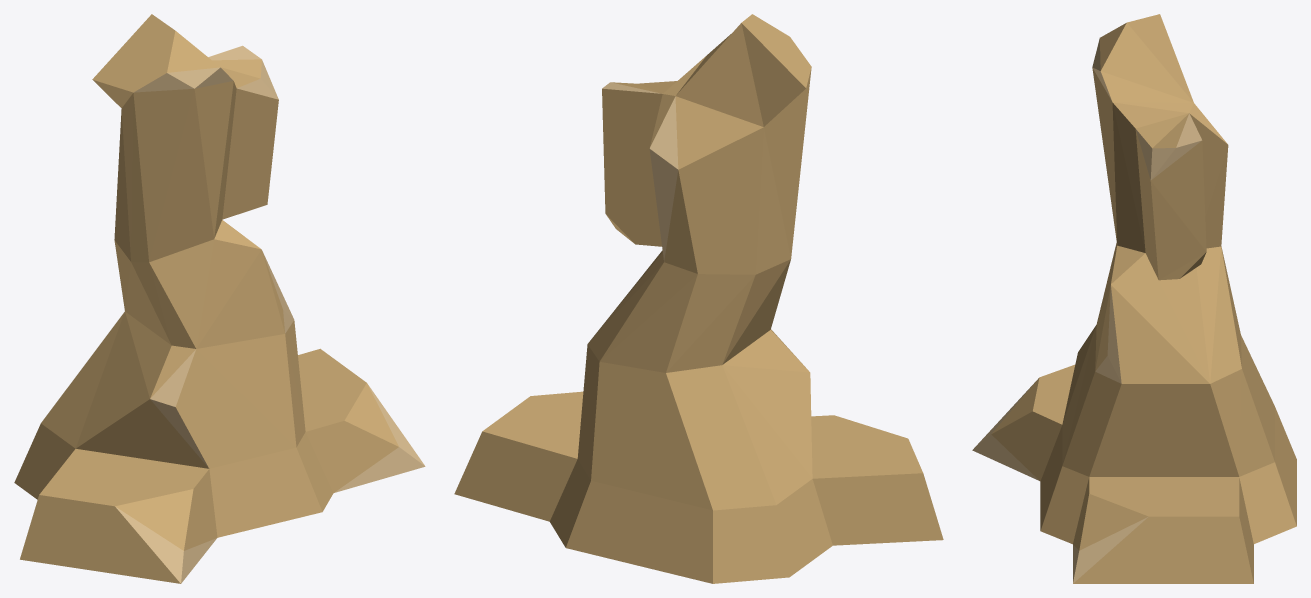
Rendered from ruin_1.fbx.
The picture shows the model from 3 angles, left to right: view 1: azimuth 30°, elevation 25°; view 2: azimuth 150°, elevation 25°; view 3: azimuth 270°, elevation 25°; orthographic projection. The views are drawn at different scales.
Parts seen in each view (by area): view 1: ruin_1; view 2: ruin_1; view 3: ruin_1.
Part boxes in pixels (bbox=[...]): ruin_1: bbox=[14, 14, 425, 583]; ruin_1: bbox=[454, 14, 943, 583]; ruin_1: bbox=[972, 14, 1296, 583].
Bounding box in the file's own units: 125 × 146 × 91.94.
